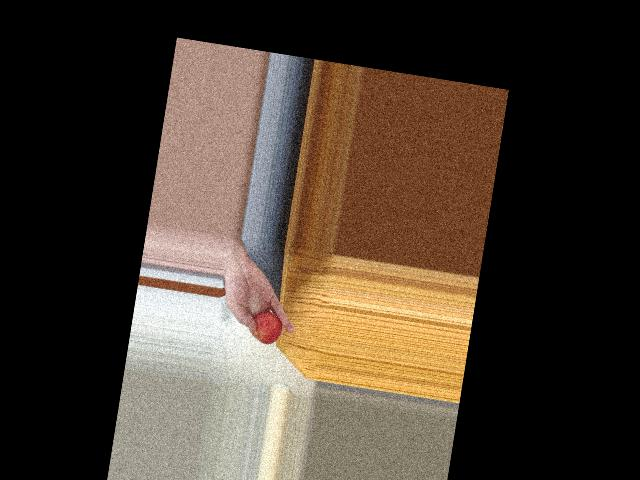apple: (244, 305, 284, 346)
